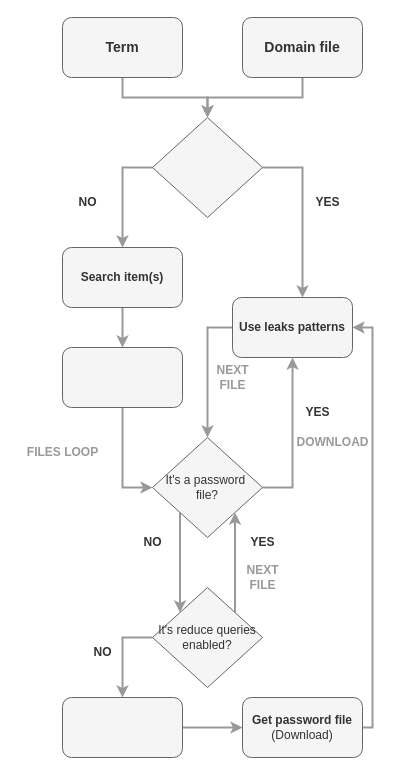
Some shapes in this 398 by 775 pixel diagram are drawn without their labels. Here are the shapes that lost their labels. From the top down, the box of each, then its label:
(152, 116, 262, 218): Do you have a folder with leaks?
(62, 346, 182, 408): Result (Files list)
(62, 696, 182, 758): Get the tree of the file
